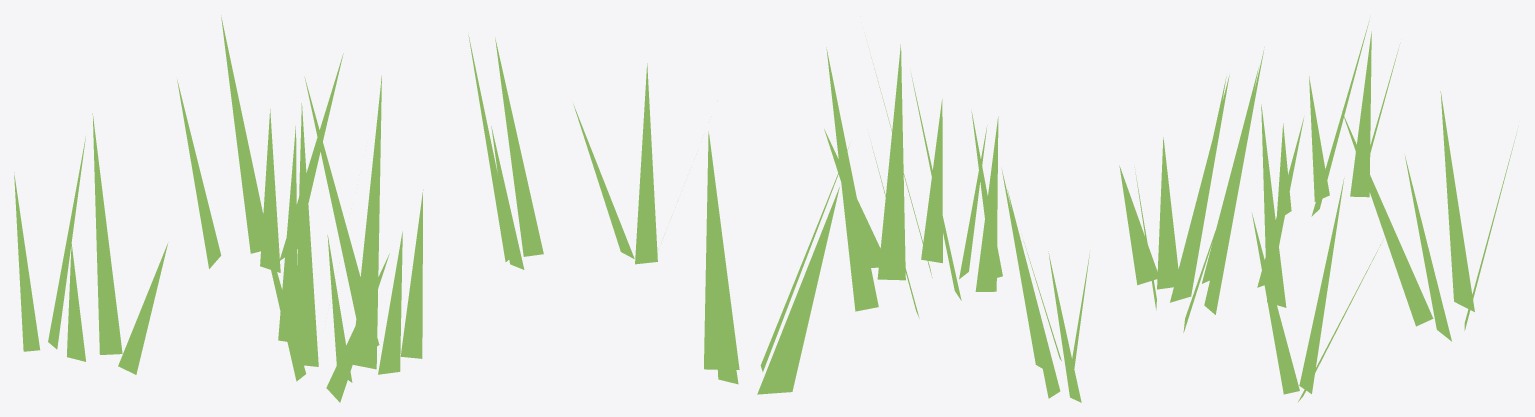
File: Grass_d_OneS_07.fbx
3 renders of one model, left to right at view 1: azimuth 30°, elevation 25°; view 2: azimuth 150°, elevation 25°; view 3: azimuth 270°, elevation 25°, orthographic. The views are drawn at different scales.
Parts seen in each view (by area): view 1: Grass_d_OneS_07; view 2: Grass_d_OneS_07; view 3: Grass_d_OneS_07.
Part boxes in pixels (box(x1,y1,x2,y2)): Grass_d_OneS_07: box(14, 15, 543, 402); Grass_d_OneS_07: box(573, 44, 1089, 402); Grass_d_OneS_07: box(1119, 20, 1517, 401).
Size of the model in its own units: 0.8975 by 0.479 by 0.6833.
